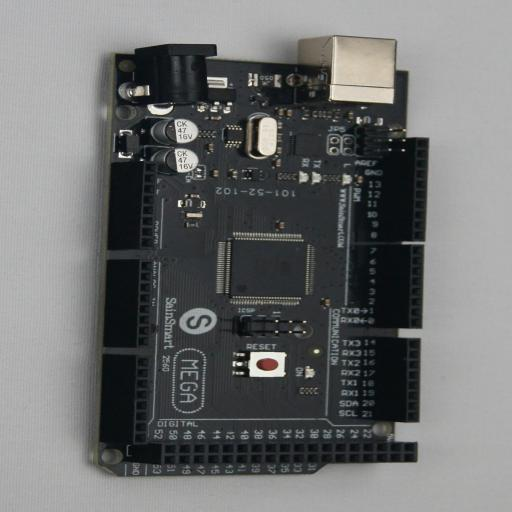Arduino Mega 2560 -Black-: (86, 35, 428, 477)
